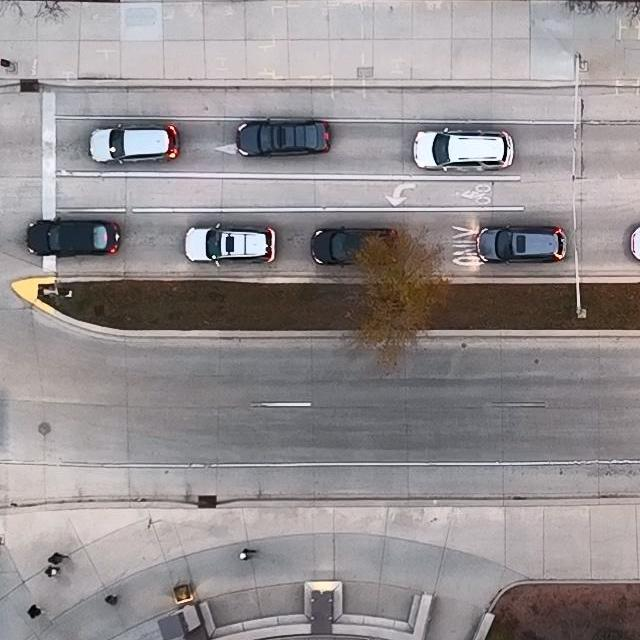car: (412, 126, 514, 173), (184, 223, 276, 267), (236, 118, 331, 159), (26, 216, 120, 257), (89, 123, 180, 165), (476, 224, 568, 265), (312, 224, 396, 265)
